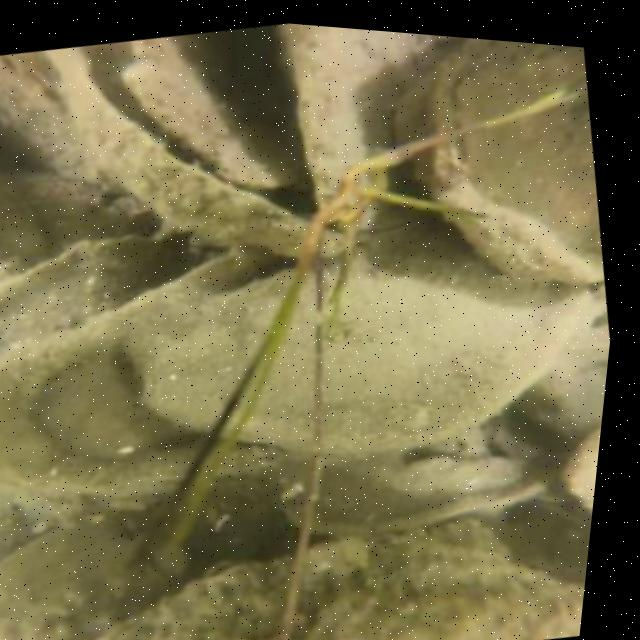Oyster-Closed: (400, 447, 521, 492)
Oyster-Indeterminate: (127, 256, 592, 450), (0, 245, 305, 496), (397, 38, 604, 290), (103, 532, 584, 640), (124, 34, 296, 189), (0, 520, 180, 640), (518, 317, 609, 441), (0, 181, 36, 280), (563, 424, 601, 503)
Oyster-Open: (60, 24, 368, 253)
